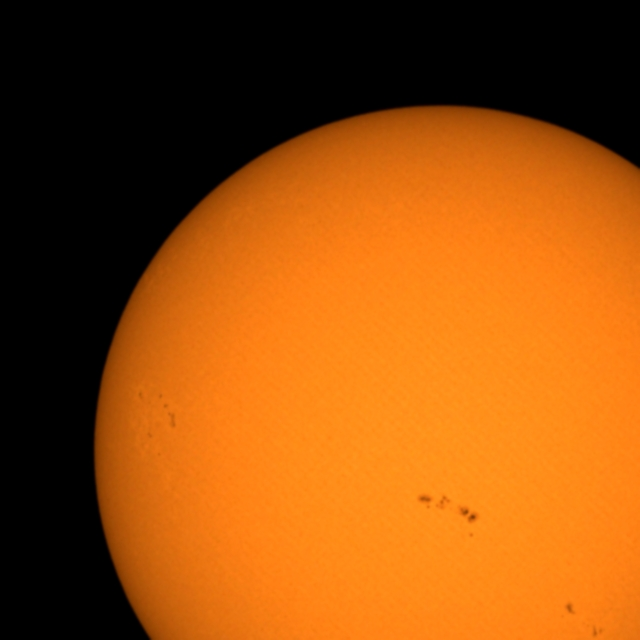sunspot: (414, 492, 476, 520), (416, 492, 454, 512), (456, 504, 480, 530), (161, 396, 178, 431), (589, 624, 607, 640), (563, 600, 577, 617), (146, 432, 154, 440)
